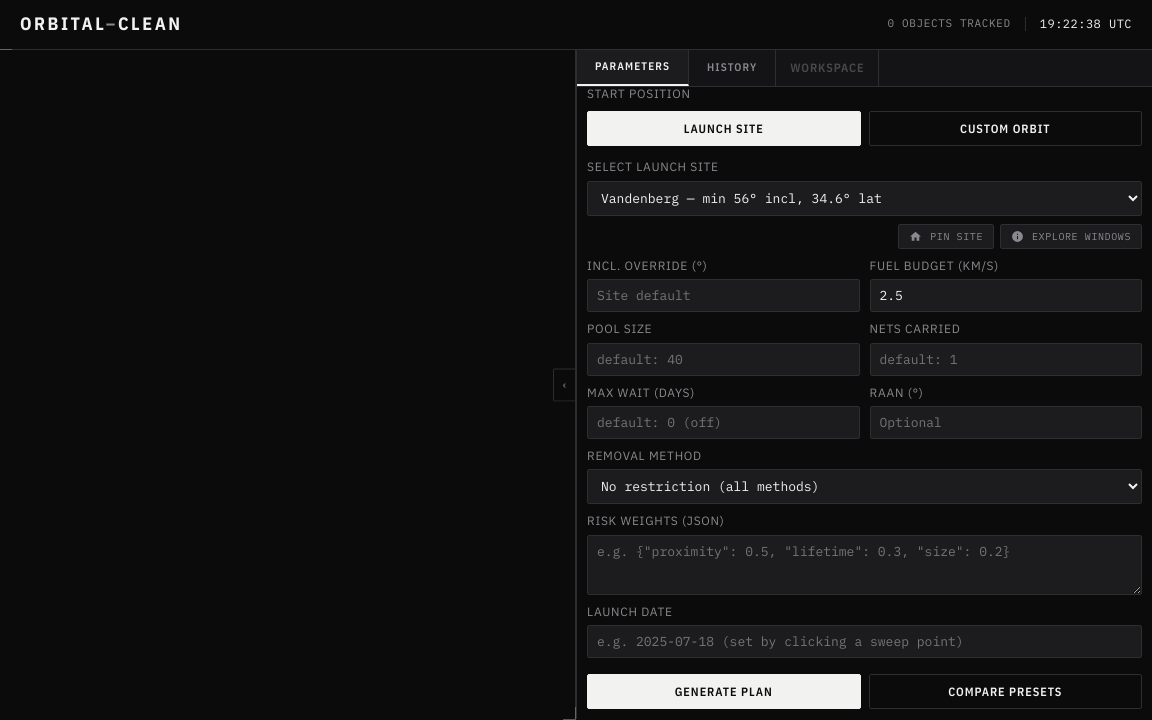
Test: 2. Generate Plan → history entry + Workspace opens › creates tab #1 and opens Workspace as "Workspace #1"
The width and height of the screenshot is (1152, 720).
(page scrolled)
Click the button "Generate plan" at (724, 692), box [587,674,860,709]
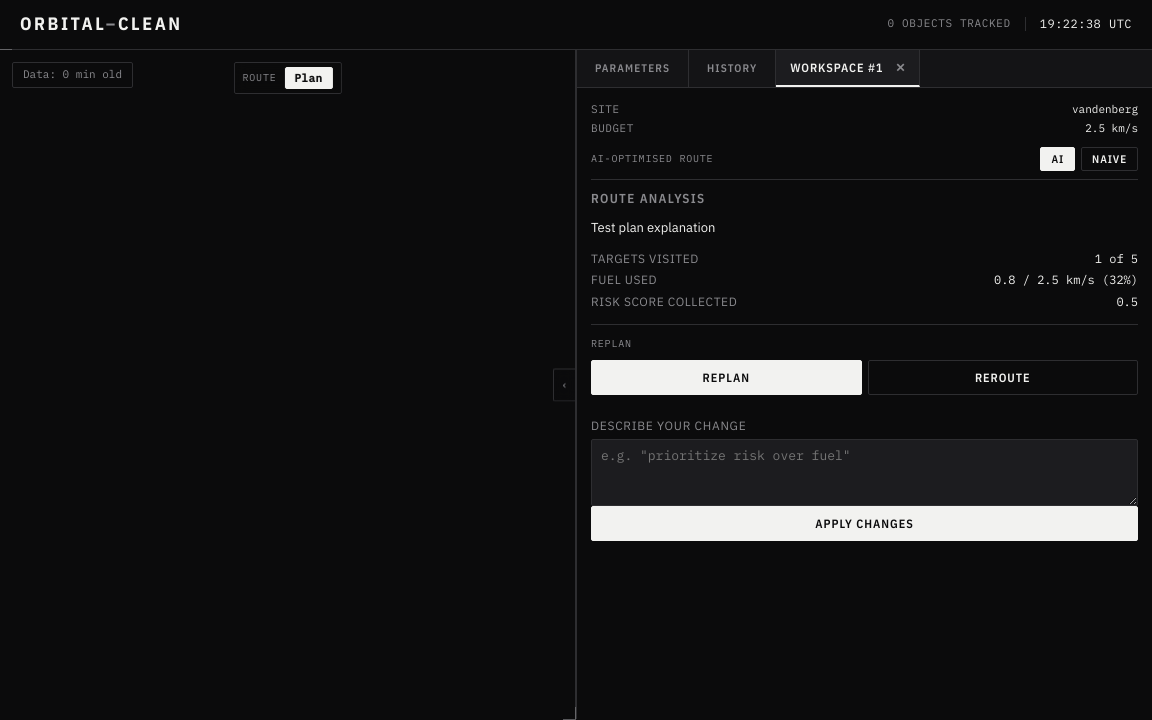
expect the text with test id "workspace-title" reads "Workspace #1": met, box [790,59,883,76]
Click the tab with test id "panel-tab-history" at (733, 69), box [689,50,776,88]
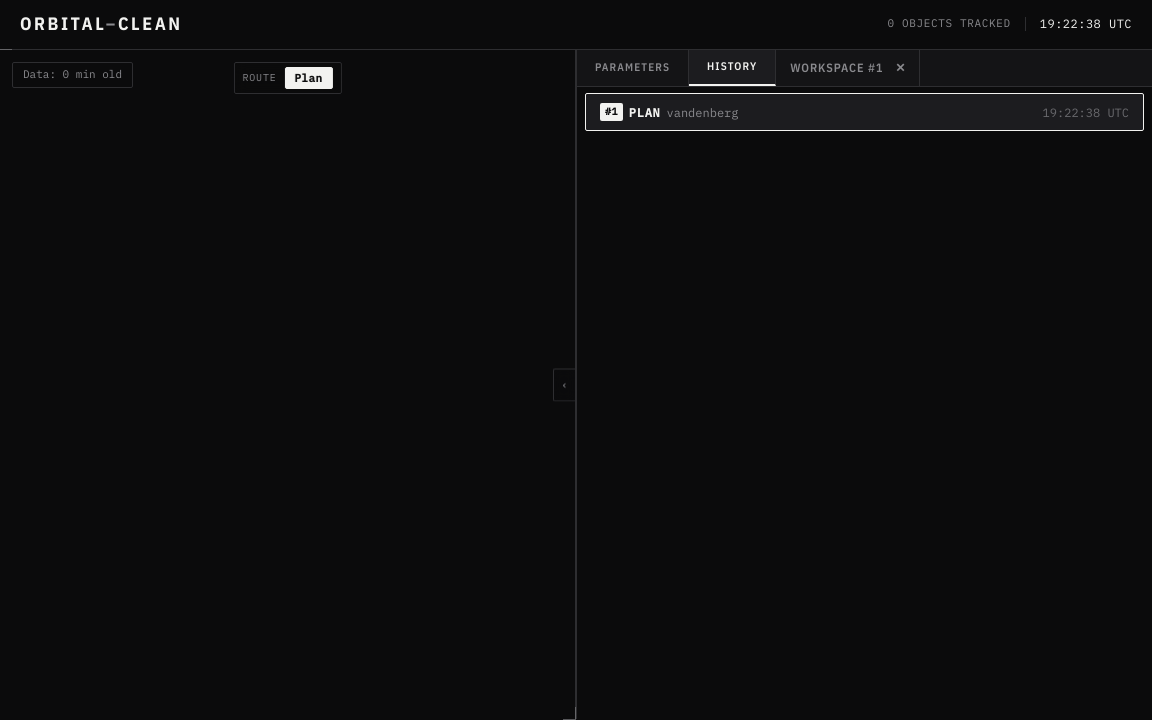
expect the button with test id "history-tab-1" is shown: met, box [585,93,1144,131]
